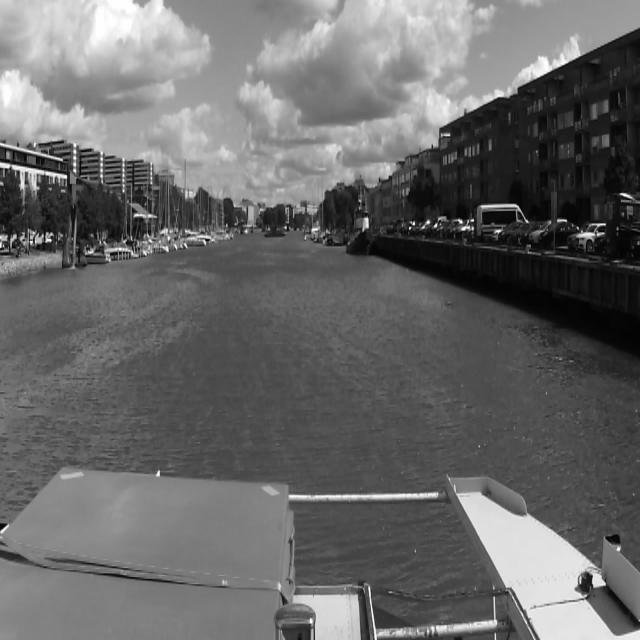ship: (164, 139, 196, 262), (346, 212, 378, 262), (318, 187, 330, 247), (85, 247, 114, 267), (306, 204, 316, 242), (258, 226, 284, 239)
